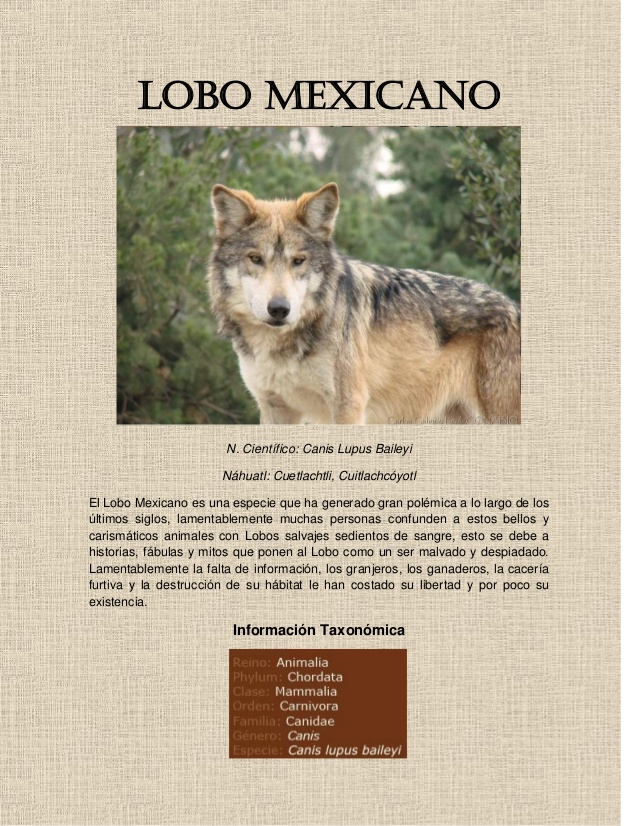Lobo: (179, 178, 490, 371)
